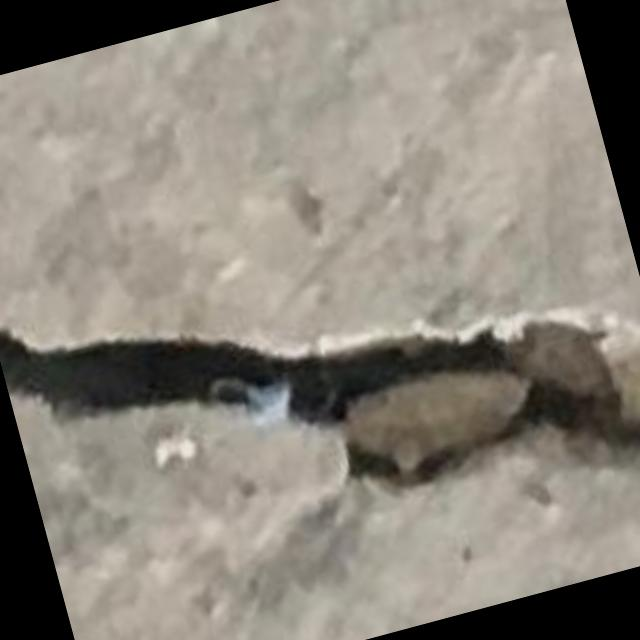crack: (0, 309, 639, 498)
